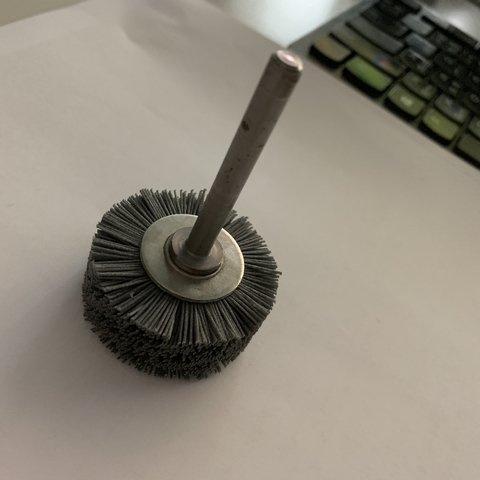Wheel Brush: (67, 33, 314, 401), (88, 58, 285, 376), (90, 48, 267, 387)
